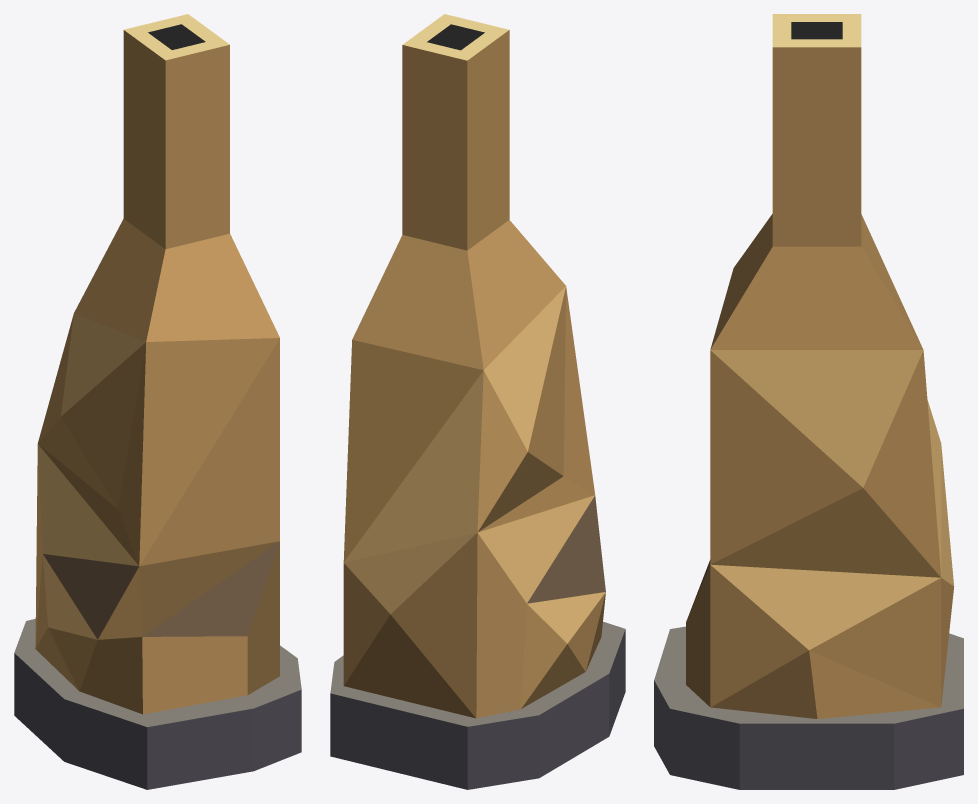
File: TB_D_Bd_Chimney_Yel.FBX
3 renders of one model, left to right at view 1: azimuth 30°, elevation 25°; view 2: azimuth 150°, elevation 25°; view 3: azimuth 270°, elevation 25°, orthographic. The views are drawn at different scales.
Visible parts, largest first — view 1: TB_D_Bd_Chimney_Yel; view 2: TB_D_Bd_Chimney_Yel; view 3: TB_D_Bd_Chimney_Yel.
Boxes of the visible parts, x1,y1,x2,y2 form: TB_D_Bd_Chimney_Yel: [14, 14, 301, 789]; TB_D_Bd_Chimney_Yel: [330, 14, 625, 789]; TB_D_Bd_Chimney_Yel: [654, 14, 963, 789].
Size of the model in its own units: 2.01 by 6 by 2.35.
